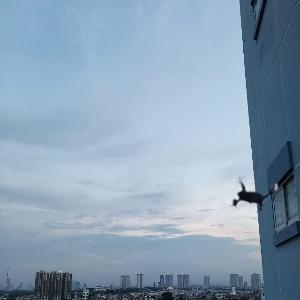drone: (221, 164, 284, 227)
